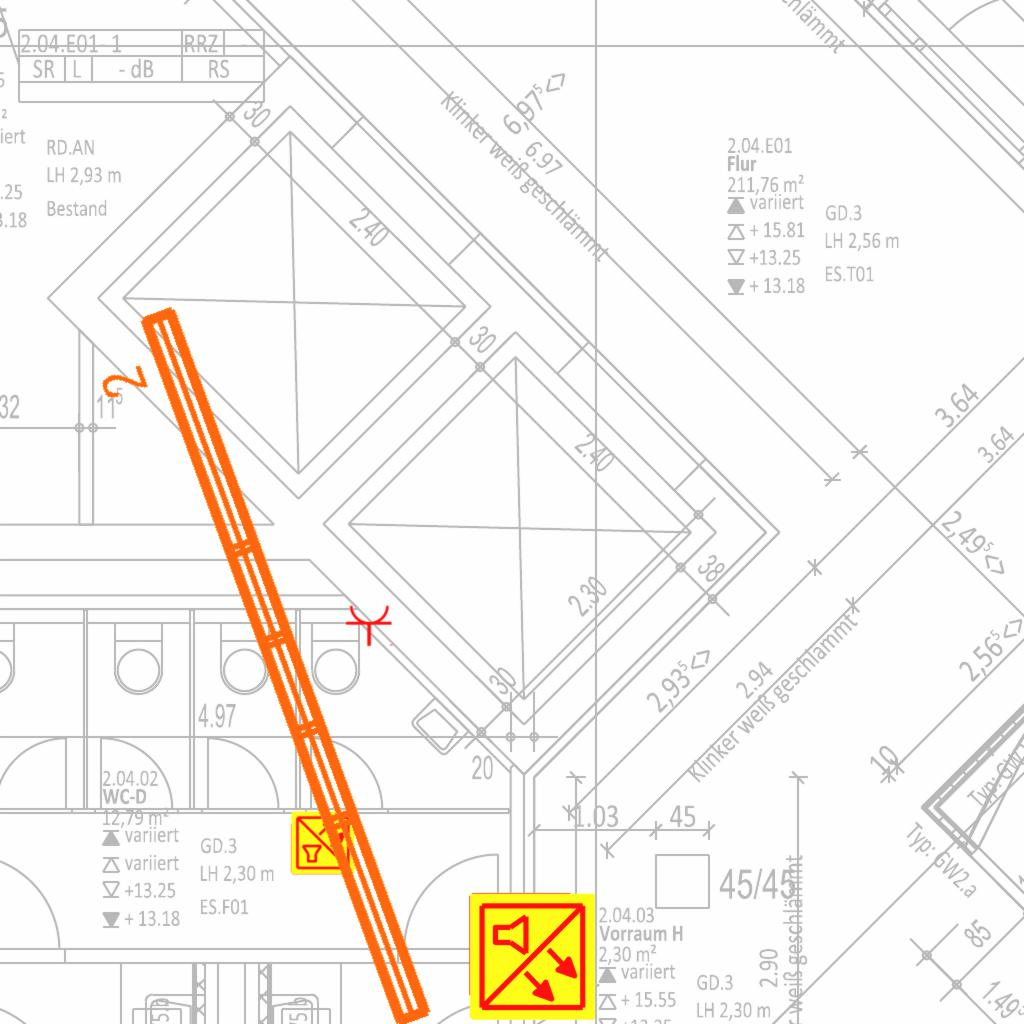Ambulanz_Pendelleuchte_LED: (77, 293, 447, 1024)
OKW_Multisensormelder_(Kombination_optischer_Rauch-Kahlenmonoxid_Waerme-Melder): (466, 891, 598, 1023), (290, 810, 356, 876)
Schukosteckdose_einfach: (345, 604, 395, 647)
